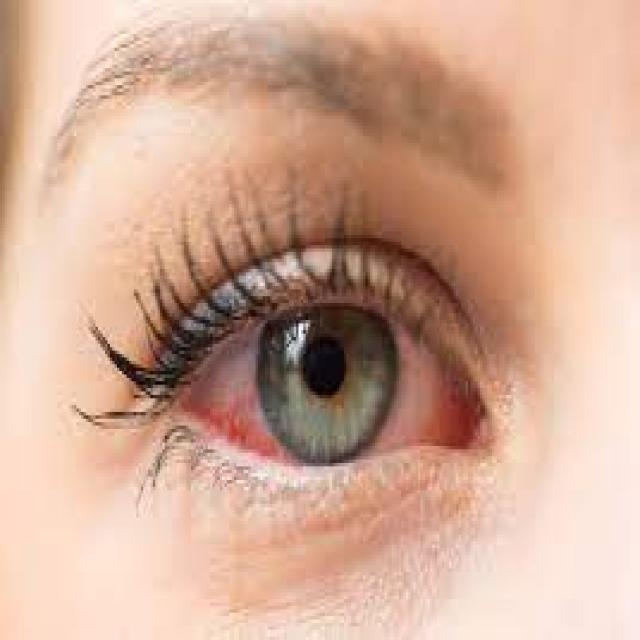Eyes-iris: (248, 290, 406, 470)
